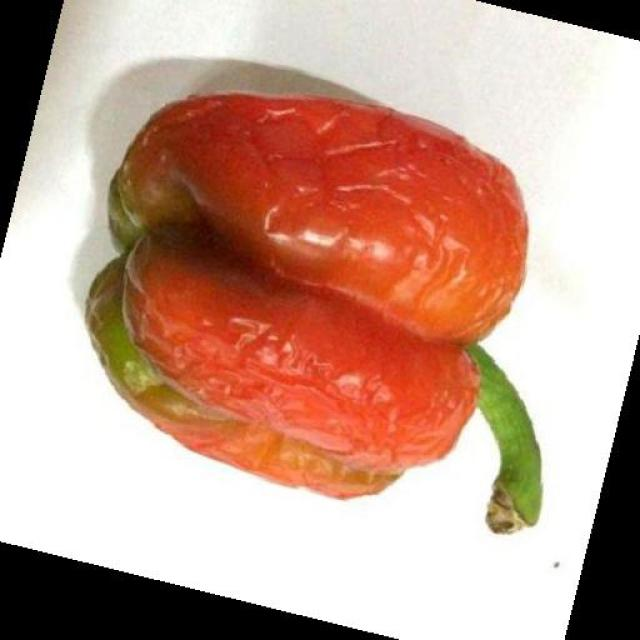Stale_Capsicum: (68, 46, 547, 534)
